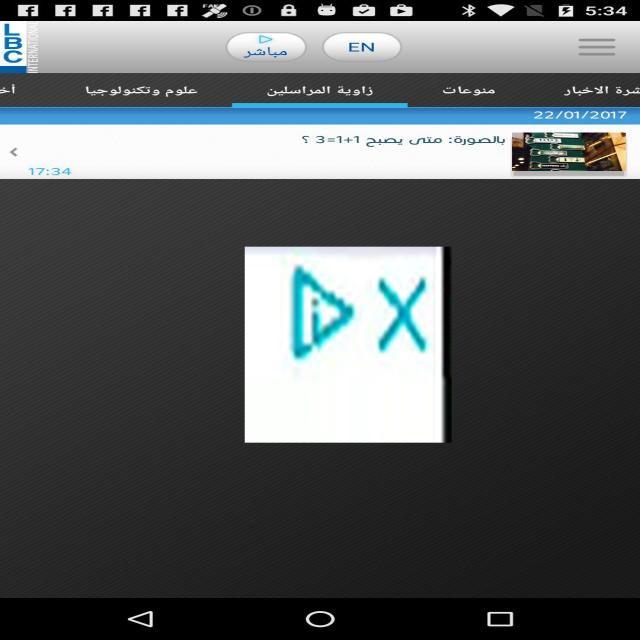sneaking: (244, 247, 452, 442)
